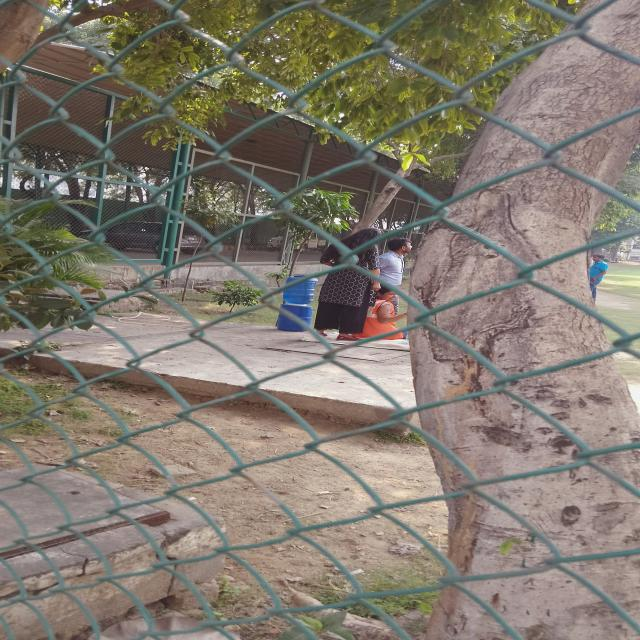unsafe: (323, 224, 382, 346), (371, 235, 414, 302)
